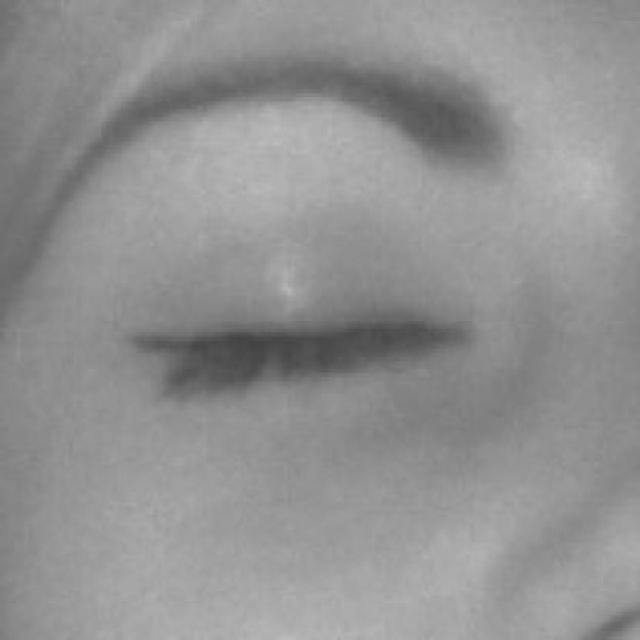drowsy: (122, 198, 486, 476)
